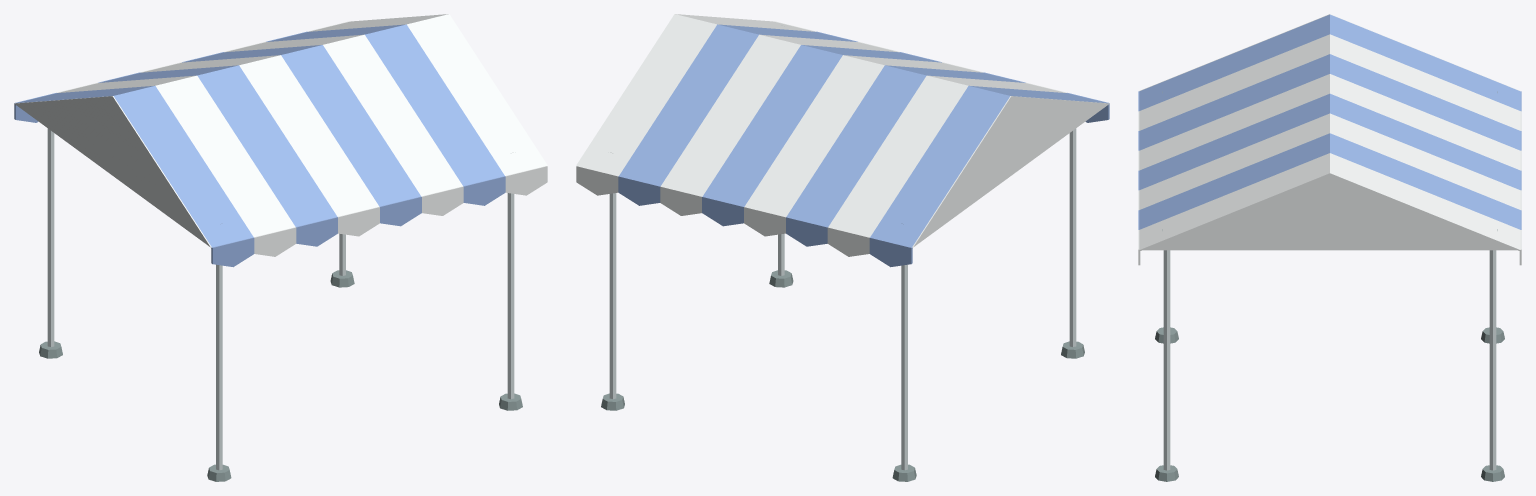
Rendered from pergola_awning.glb.
The picture shows the model from 3 angles, left to right: view 1: azimuth 30°, elevation 25°; view 2: azimuth 150°, elevation 25°; view 3: azimuth 270°, elevation 25°; orthographic projection. The views are drawn at different scales.
Visible parts, largest first — view 1: AwningCanopy, AwningFrame; view 2: AwningCanopy, AwningFrame; view 3: AwningCanopy, AwningFrame.
Boxes of the visible parts, x1,y1,x2,y2 form: AwningCanopy: (14, 14, 547, 267); AwningFrame: (39, 128, 522, 481); AwningCanopy: (576, 14, 1109, 267); AwningFrame: (601, 128, 1084, 481); AwningCanopy: (1138, 14, 1521, 265); AwningFrame: (1155, 91, 1504, 481).
Bounding box in the file's own units: 1.97 × 1.82 × 2.01.
